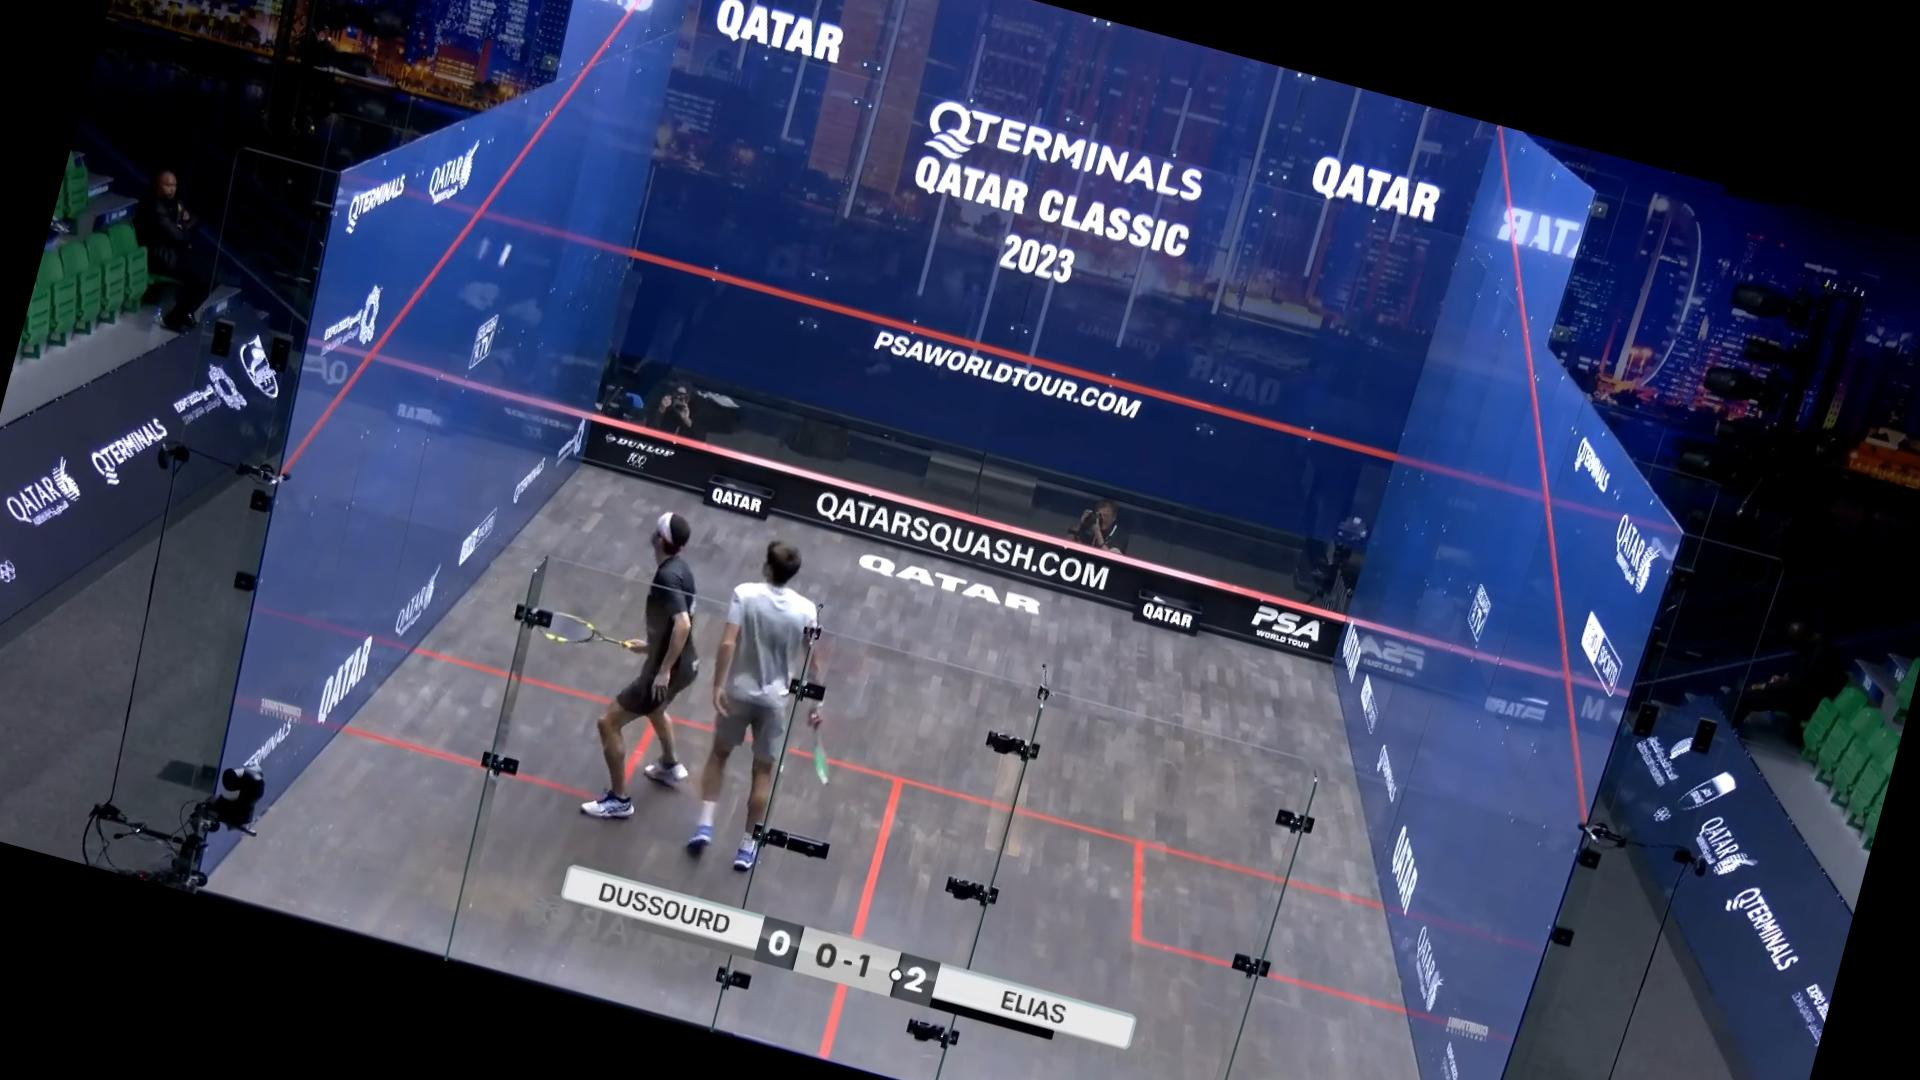Racket: (527, 592, 626, 669), (781, 721, 866, 800)
